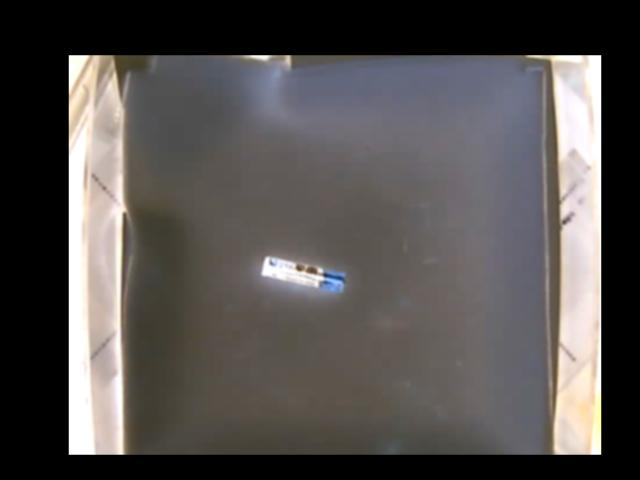Battery: (261, 255, 346, 291)
